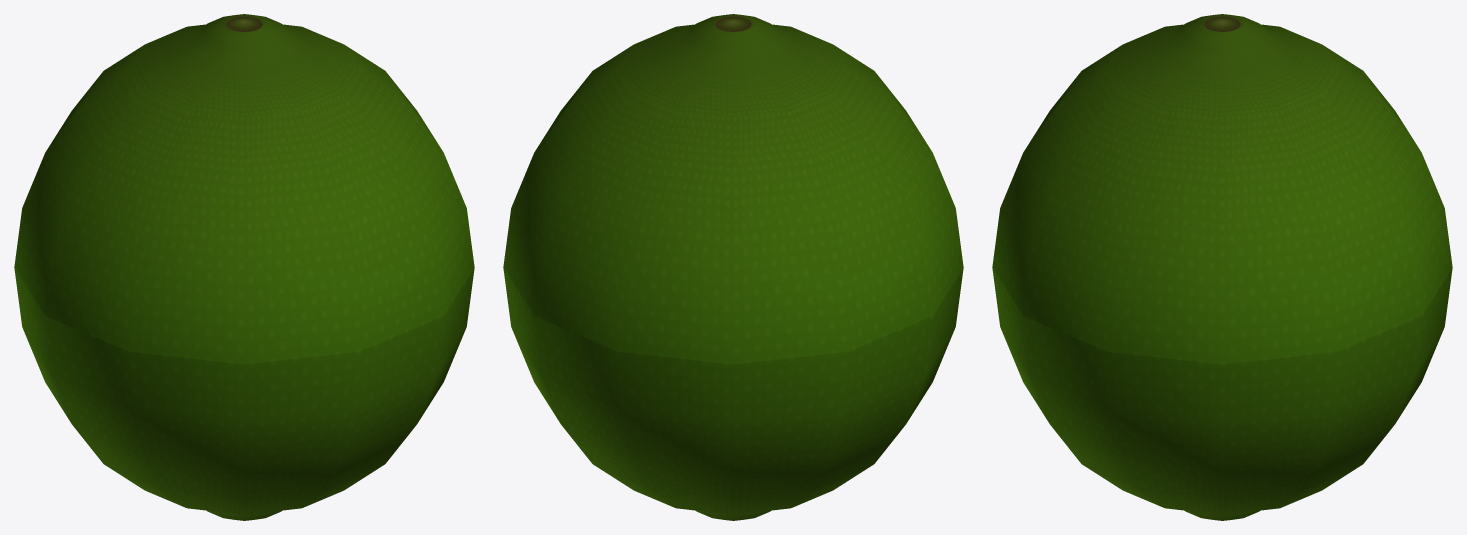
The model's file is 青柠檬.FBX.
3 renders of one model, left to right at view 1: azimuth 30°, elevation 25°; view 2: azimuth 150°, elevation 25°; view 3: azimuth 270°, elevation 25°, orthographic.
Parts seen in each view (by area): view 1: Lime_Whole001, Lime_Half_Bottom001; view 2: Lime_Whole001, Lime_Half_Bottom001; view 3: Lime_Whole001, Lime_Half_Bottom001.
Part boxes in pixels (left/top/right/bottom): Lime_Whole001: left=14, top=14, right=474, bottom=364; Lime_Half_Bottom001: left=14, top=268, right=474, bottom=520; Lime_Whole001: left=503, top=14, right=963, bottom=364; Lime_Half_Bottom001: left=503, top=268, right=963, bottom=520; Lime_Whole001: left=992, top=14, right=1452, bottom=364; Lime_Half_Bottom001: left=992, top=268, right=1452, bottom=520.
Bounding box in the file's own units: 15.75 × 18.63 × 15.75.
2 materials, 2 textured.
